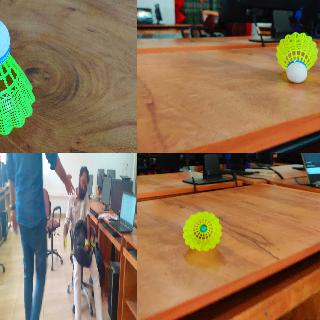shuttlecock: (0, 14, 36, 138), (276, 32, 318, 82), (182, 211, 222, 251), (84, 239, 87, 249)
